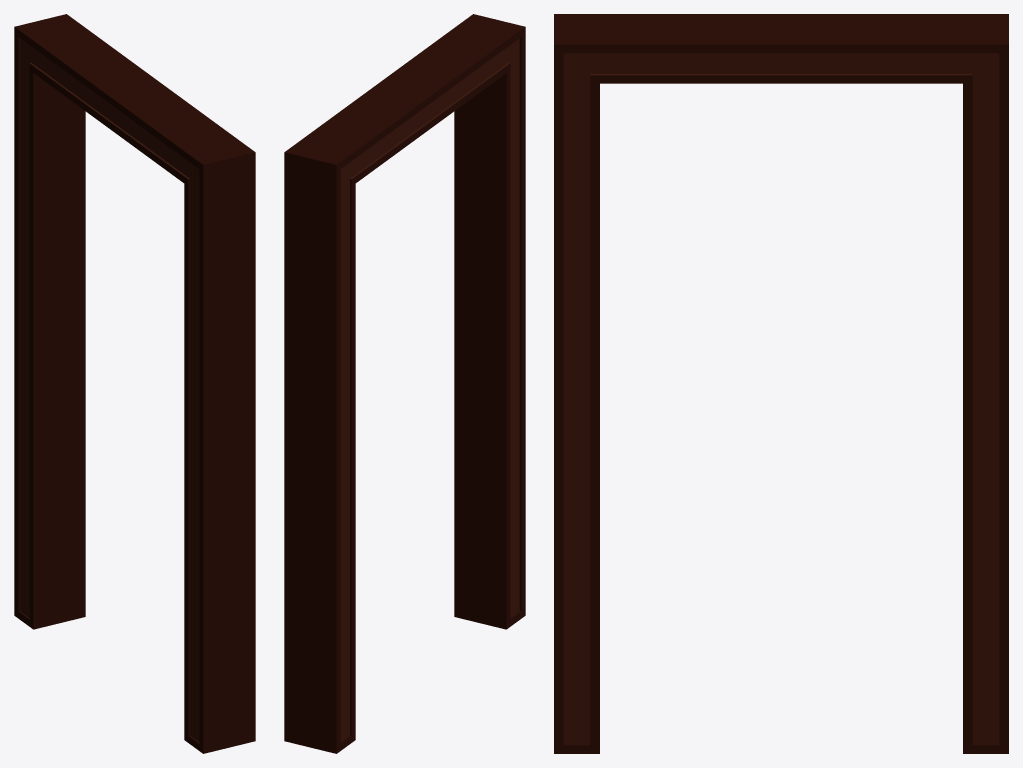
The model's file is Door Openable Frame.fbx.
3 renders of one model, left to right at view 1: azimuth 30°, elevation 25°; view 2: azimuth 150°, elevation 25°; view 3: azimuth 270°, elevation 25°, orthographic. The views are drawn at different scales.
Visible parts, largest first — view 1: polySurface212; view 2: polySurface212; view 3: polySurface212.
Part boxes in pixels (x1,y1,x2,y2): polySurface212: [14, 14, 255, 753]; polySurface212: [284, 14, 525, 753]; polySurface212: [554, 14, 1008, 753].
Size of the model in its own units: 16.84 by 181 by 105.
